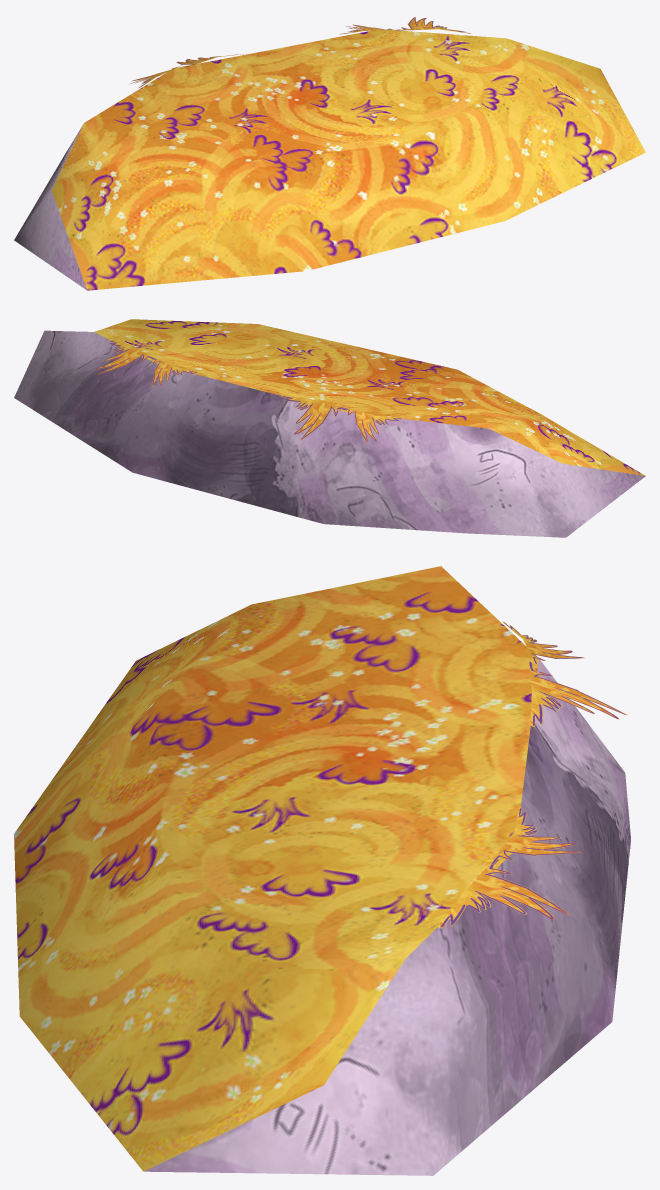
The model's file is s0_Terrain_Amount_01__1__01.glb.
3 views of the same model, one above another, from view 1: azimuth 30°, elevation 25°; view 2: azimuth 150°, elevation 25°; view 3: azimuth 270°, elevation 25° (orthographic). The views are drawn at different scales.
Visible parts, largest first — view 1: node_Terrain_Amount_01 (1); view 2: node_Terrain_Amount_01 (1); view 3: node_Terrain_Amount_01 (1).
Boxes of the visible parts, x1,y1,x2,y2 form: node_Terrain_Amount_01 (1): (14, 17, 645, 290); node_Terrain_Amount_01 (1): (14, 319, 645, 537); node_Terrain_Amount_01 (1): (14, 566, 630, 1175).
Size of what is drawn, in the model's own units: 8.75 by 1.6 by 4.53.
3 materials, 3 textured.
